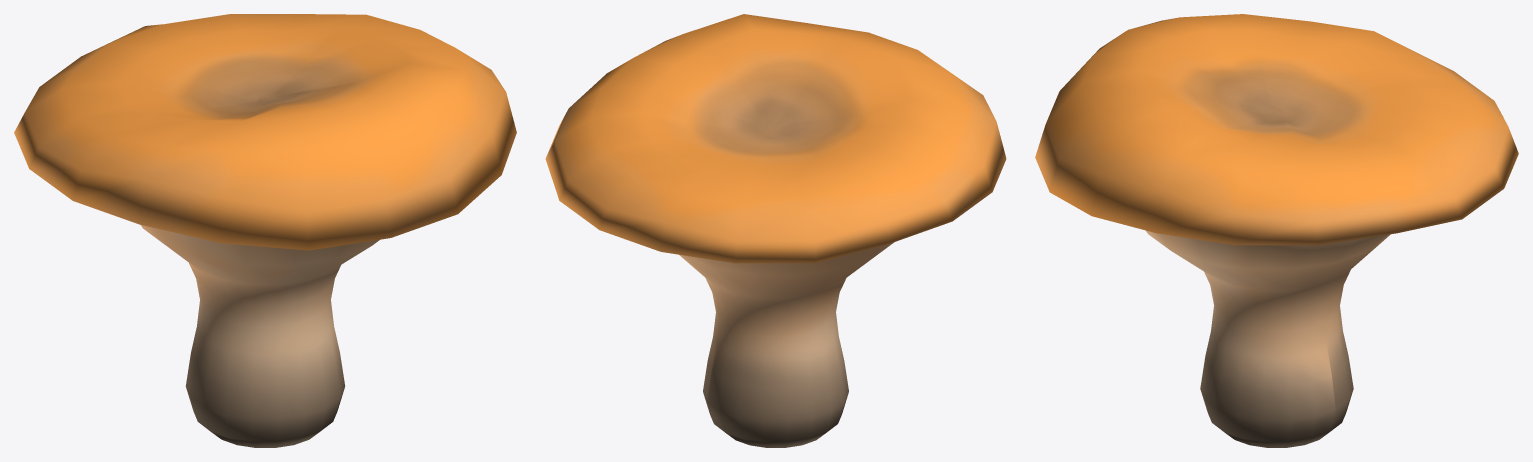
Rendered from sieni_kanttarelli.fbx.
The picture shows the model from 3 angles, left to right: view 1: azimuth 30°, elevation 25°; view 2: azimuth 150°, elevation 25°; view 3: azimuth 270°, elevation 25°; orthographic projection. The views are drawn at different scales.
Parts seen in each view (by area): view 1: Cylinder; view 2: Cylinder; view 3: Cylinder.
Part boxes in pixels (<box>): Cylinder: <box>14,14,516,447</box>; Cylinder: <box>545,14,1006,447</box>; Cylinder: <box>1035,14,1518,447</box>.
Bounding box in the file's own units: 241 × 200 × 244.
Materials: 1 (1 with a texture image).
